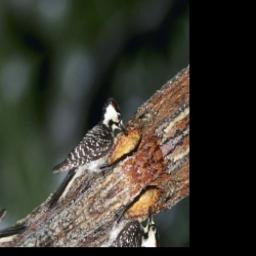Woodpecker: (31, 88, 136, 223)
